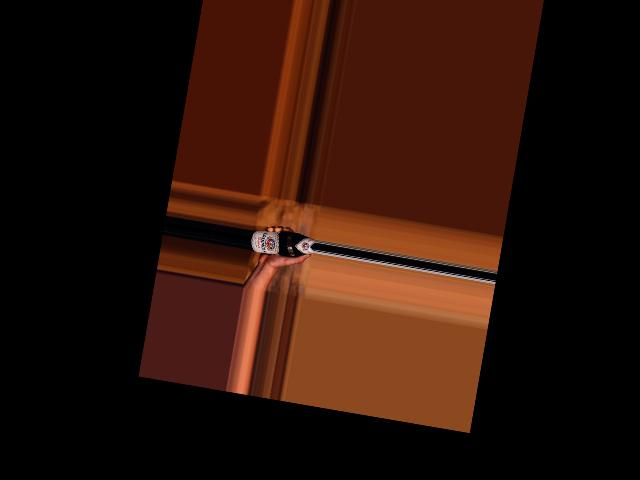beer: (248, 225, 315, 262)
